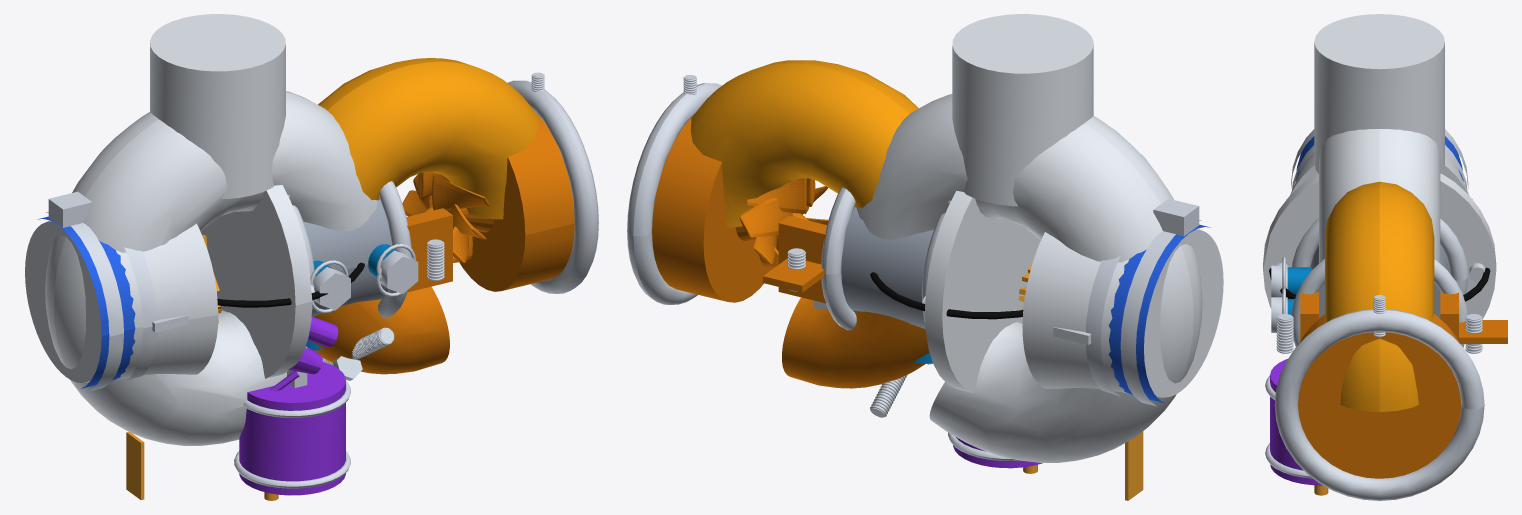
The model's file is turbo_single_refined.glb.
3 renders of one model, left to right at view 1: azimuth 30°, elevation 25°; view 2: azimuth 150°, elevation 25°; view 3: azimuth 270°, elevation 25°, orthographic. The views are drawn at different scales.
Visible parts, largest first — view 1: Compressor_Volute_Scroll, Inconel_Foil_Turbine_Thermal_Blanket, Compressor_Boost_Outlet_Pipe, Anti_Surge_Ported_Air_Inlet_Snout, Compressor_Seal_Backplate, Turbine_VBand_Exhaust_Flange, DualPort_Wastegate_Canister, Divided_TwinScroll_Turbine_Volute, Turbine_Discharge_VBand_Clamp_Ring, CHRA_Bearing_Center_Housing, Inlet_Coupler_T_Clamp_1, Silicone_Inlet_Coupler_Boot (+13 smaller); view 2: Compressor_Volute_Scroll, Inconel_Foil_Turbine_Thermal_Blanket, Compressor_Boost_Outlet_Pipe, Anti_Surge_Ported_Air_Inlet_Snout, Compressor_Seal_Backplate, Turbine_VBand_Exhaust_Flange, Divided_TwinScroll_Turbine_Volute, CHRA_Bearing_Center_Housing, Turbine_Discharge_VBand_Clamp_Ring, Inlet_Coupler_T_Clamp_1, Silicone_Inlet_Coupler_Boot, CHRA_VBand_Retention_Clamp_Turbine (+9 smaller); view 3: Inconel_Foil_Turbine_Thermal_Blanket, Compressor_Boost_Outlet_Pipe, Turbine_VBand_Exhaust_Flange, Turbine_Discharge_VBand_Clamp_Ring, Compressor_Volute_Scroll, Compressor_Seal_Backplate, CHRA_VBand_Retention_Clamp_Compressor, CHRA_VBand_Retention_Clamp_Turbine, DualPort_Wastegate_Canister, TwinScroll_Internal_Divider_Tongue, Anti_Surge_Ported_Air_Inlet_Snout, Turbine_Manifold_Mount_Foot_B (+13 smaller).
Part boxes in pixels (x1,y1,x2,y2): Compressor_Volute_Scroll: (45, 91, 377, 445); Inconel_Foil_Turbine_Thermal_Blanket: (318, 58, 538, 219); Compressor_Boost_Outlet_Pipe: (150, 14, 285, 198); Anti_Surge_Ported_Air_Inlet_Snout: (25, 220, 218, 382); Compressor_Seal_Backplate: (200, 185, 312, 378); Turbine_VBand_Exhaust_Flange: (459, 111, 574, 291); DualPort_Wastegate_Canister: (239, 362, 345, 495); Divided_TwinScroll_Turbine_Volute: (312, 286, 449, 374); Turbine_Discharge_VBand_Clamp_Ring: (507, 80, 598, 293); CHRA_Bearing_Center_Housing: (303, 199, 391, 316); Inlet_Coupler_T_Clamp_1: (46, 191, 123, 391); Silicone_Inlet_Coupler_Boot: (38, 216, 135, 388); Compressor_Volute_Scroll: (856, 94, 1202, 462); Inconel_Foil_Turbine_Thermal_Blanket: (690, 60, 918, 227); Compressor_Boost_Outlet_Pipe: (952, 14, 1093, 206); Anti_Surge_Ported_Air_Inlet_Snout: (1022, 228, 1223, 397); Compressor_Seal_Backplate: (925, 190, 1040, 393); Turbine_VBand_Exhaust_Flange: (652, 116, 774, 302); Divided_TwinScroll_Turbine_Volute: (782, 181, 929, 388); CHRA_Bearing_Center_Housing: (841, 206, 933, 328); Turbine_Discharge_VBand_Clamp_Ring: (627, 83, 721, 304); Inlet_Coupler_T_Clamp_1: (1120, 198, 1201, 406); Silicone_Inlet_Coupler_Boot: (1108, 224, 1210, 403); CHRA_VBand_Retention_Clamp_Turbine: (821, 187, 856, 330); Inconel_Foil_Turbine_Thermal_Blanket: (1325, 181, 1434, 412); Compressor_Boost_Outlet_Pipe: (1314, 14, 1444, 173); Turbine_VBand_Exhaust_Flange: (1298, 314, 1461, 478); Turbine_Discharge_VBand_Clamp_Ring: (1274, 309, 1484, 500); Compressor_Volute_Scroll: (1319, 129, 1440, 262); Compressor_Seal_Backplate: (1263, 173, 1496, 341); CHRA_VBand_Retention_Clamp_Compressor: (1292, 218, 1468, 294); CHRA_VBand_Retention_Clamp_Turbine: (1291, 258, 1467, 347); DualPort_Wastegate_Canister: (1270, 359, 1322, 485); TwinScroll_Internal_Divider_Tongue: (1459, 320, 1507, 343); Anti_Surge_Ported_Air_Inlet_Snout: (1290, 152, 1468, 194); Turbine_Manifold_Mount_Foot_B: (1300, 291, 1318, 341).
Bounding box in the file's own units: 0.3695 × 0.3096 × 0.1634.
